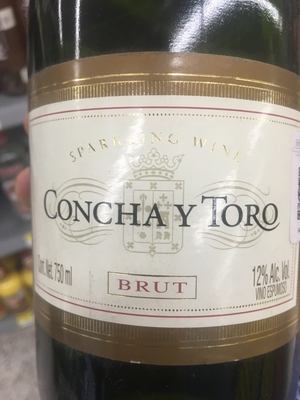brut: (29, 3, 300, 394)
